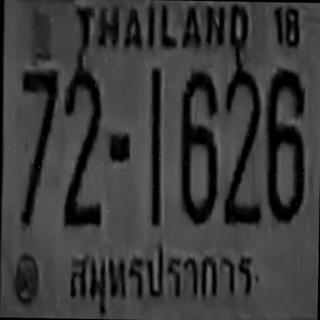N01: (148, 66, 162, 193)
N02: (62, 102, 102, 226)
N06: (264, 68, 305, 222), (178, 69, 218, 223)
N07: (20, 68, 58, 193), (20, 68, 58, 170), (20, 68, 58, 160)
P57: (60, 241, 259, 306)
